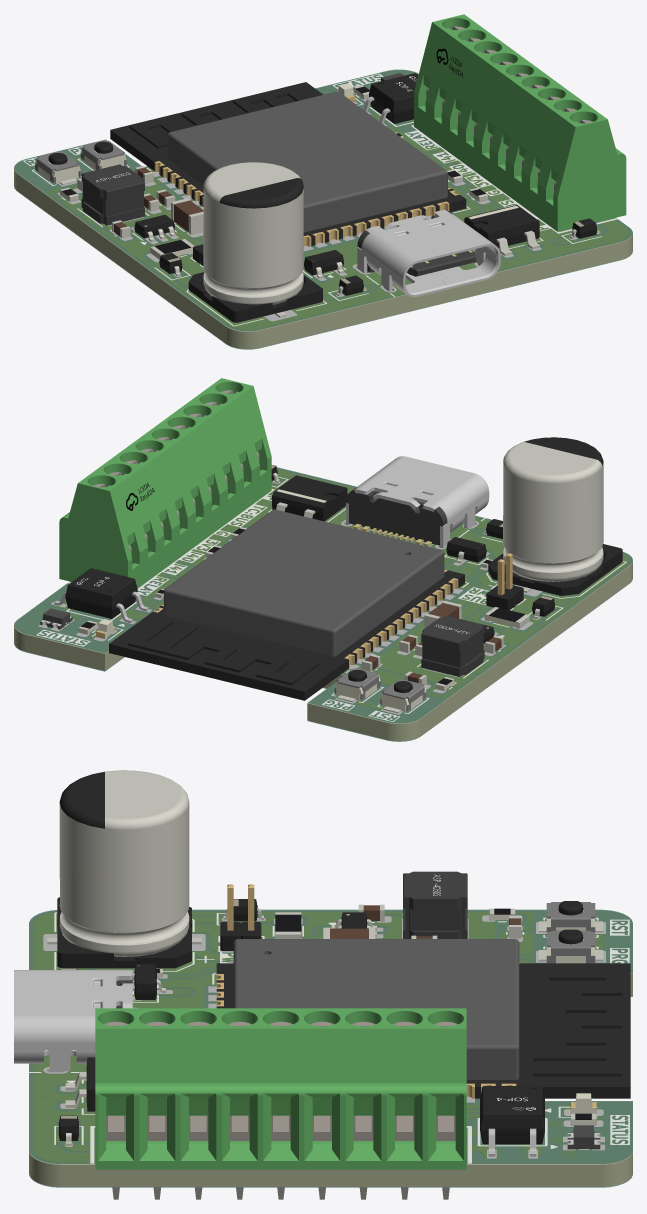
Rendered from board.glb.
3 views of the same model, one above another, from view 1: azimuth 30°, elevation 25°; view 2: azimuth 150°, elevation 25°; view 3: azimuth 270°, elevation 25° (orthographic). The views are drawn at different scales.
Parts seen in each view (by area): view 1: ESP32-S3-WROOM-1, CONN-TH_9P-P2.54_KF128-2.54-9P, board_soldermask (×2), CP_Elec_8x10, board_PCB, Frame, board_copper, ASPI-4030S, board_silkscreen, TO-269AA, SW_SPST_B3U-1000P-B (×2), SOP-4_L4.0-W4.4-H2.1-LS7.0-P2.54 (+6 smaller); view 2: ESP32-S3-WROOM-1, CONN-TH_9P-P2.54_KF128-2.54-9P, board_soldermask (×2), CP_Elec_8x10, board_PCB, board_copper, Frame, ASPI-4030S, board_silkscreen, Mold, SOP-4_L4.0-W4.4-H2.1-LS7.0-P2.54, TO-269AA (+6 smaller); view 3: CONN-TH_9P-P2.54_KF128-2.54-9P, ESP32-S3-WROOM-1, CP_Elec_8x10, board_soldermask (×2), board_PCB, board_copper, Frame, ASPI-4030S, SOP-4_L4.0-W4.4-H2.1-LS7.0-P2.54, SW_SPST_B3U-1000P-B (×2), board_silkscreen, board_pad (+6 smaller).
Part boxes in pixels (<box>): ESP32-S3-WROOM-1: <box>110,82,466,246</box>; CONN-TH_9P-P2.54_KF128-2.54-9P: <box>414,14,626,231</box>; board_soldermask (×2): <box>14,69,632,349</box>; CP_Elec_8x10: <box>188,162,322,322</box>; board_PCB: <box>14,71,632,348</box>; Frame: <box>357,210,500,297</box>; board_copper: <box>48,112,628,329</box>; ASPI-4030S: <box>81,164,144,225</box>; board_silkscreen: <box>23,73,617,326</box>; TO-269AA: <box>464,205,539,255</box>; SW_SPST_B3U-1000P-B (×2): <box>35,140,126,184</box>; SOP-4_L4.0-W4.4-H2.1-LS7.0-P2.54: <box>363,73,418,123</box>; ESP32-S3-WROOM-1: <box>109,509,464,700</box>; CONN-TH_9P-P2.54_KF128-2.54-9P: <box>59,378,271,588</box>; board_soldermask (×2): <box>14,467,632,741</box>; CP_Elec_8x10: <box>488,437,622,595</box>; board_PCB: <box>14,468,632,741</box>; board_copper: <box>40,470,628,709</box>; Frame: <box>346,456,489,547</box>; ASPI-4030S: <box>421,615,484,676</box>; board_silkscreen: <box>36,476,626,721</box>; Mold: <box>346,487,447,545</box>; SOP-4_L4.0-W4.4-H2.1-LS7.0-P2.54: <box>54,568,148,622</box>; TO-269AA: <box>272,475,347,521</box>; CONN-TH_9P-P2.54_KF128-2.54-9P: <box>95,1008,466,1199</box>; ESP32-S3-WROOM-1: <box>216,939,630,1098</box>; CP_Elec_8x10: <box>47,770,201,968</box>; board_soldermask (×2): <box>29,909,632,1187</box>; board_PCB: <box>29,911,632,1186</box>; board_copper: <box>34,912,609,1161</box>; Frame: <box>14,969,132,1072</box>; ASPI-4030S: <box>403,871,467,938</box>; SOP-4_L4.0-W4.4-H2.1-LS7.0-P2.54: <box>480,1086,544,1156</box>; SW_SPST_B3U-1000P-B (×2): <box>538,901,603,963</box>; board_silkscreen: <box>29,912,629,1163</box>; board_pad: <box>43,915,605,1158</box>.
Bounding box in the file's own units: 0.038 × 0.0135 × 0.0381.
